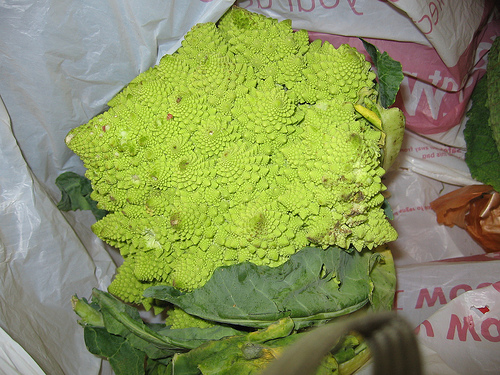cauliflower: (63, 2, 407, 374)
